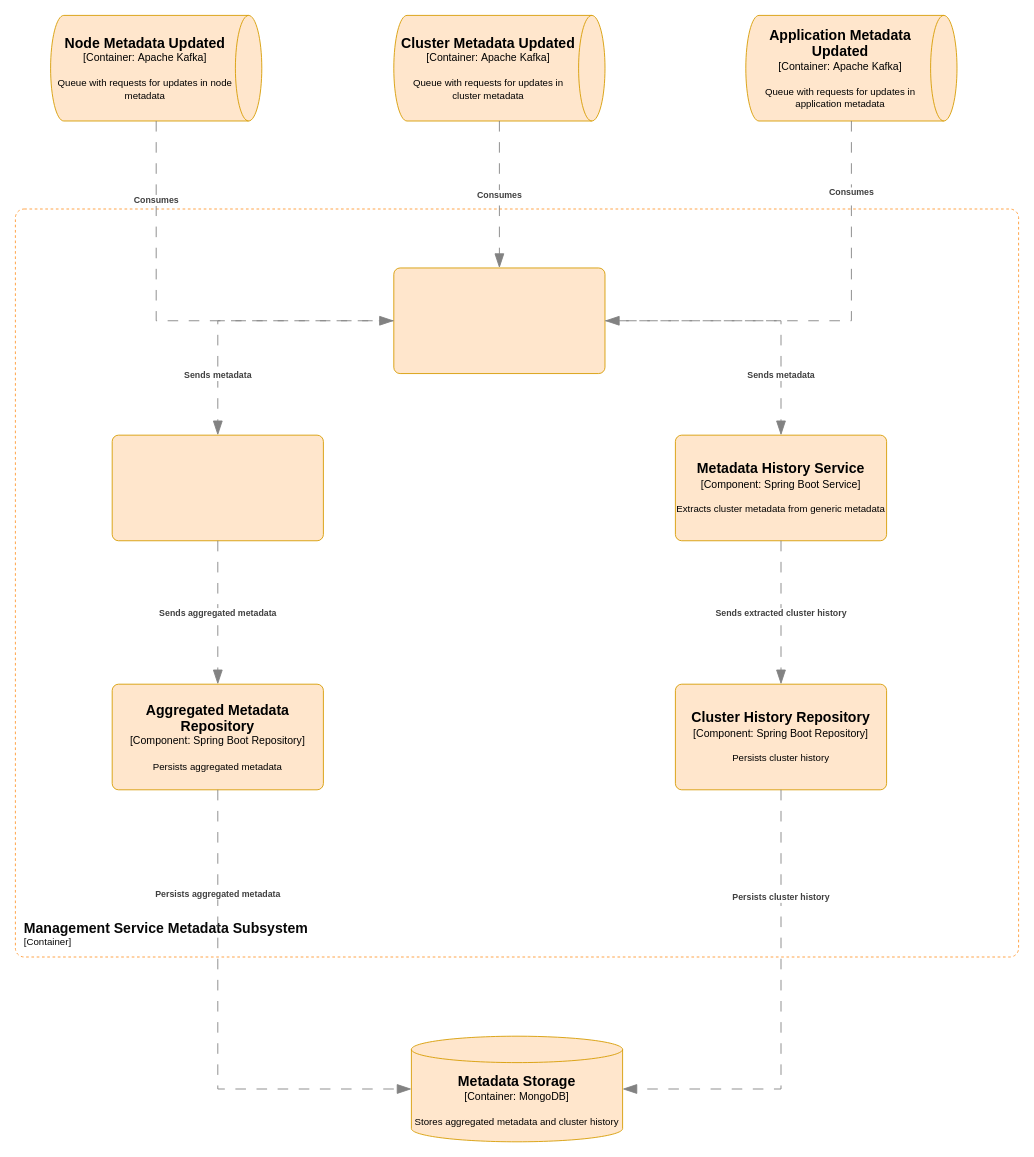
The diagram is 1034 pixels wide and 1157 high, and some of its shapes have lost their labels. The shapes that lost their labels are listed below. From the top down, each one's box as (x1, y1, x2, y2) in pixels, then its label:
(393, 267, 605, 374): Metadata Consumer [Component: Spring Boot Service] Consumes metadata events
(111, 434, 323, 541): Metadata Service [Component: Spring Boot Service] Stores metadata
